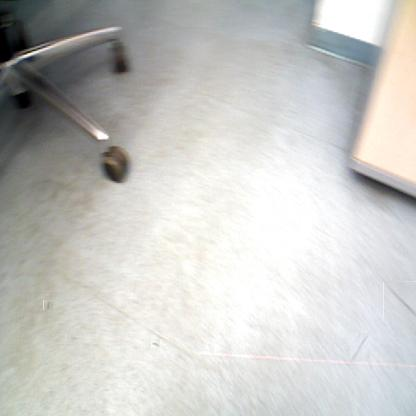mark: (383, 281, 416, 317), (350, 333, 370, 363), (43, 301, 53, 310), (151, 338, 160, 348)
